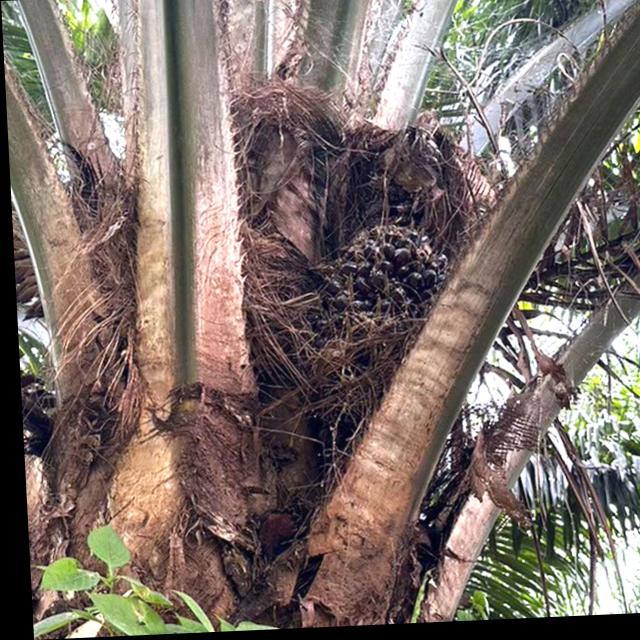almost: (295, 223, 455, 424)
